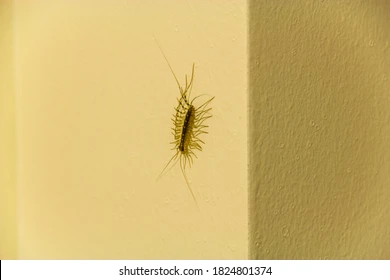centipede: (157, 52, 218, 212)
